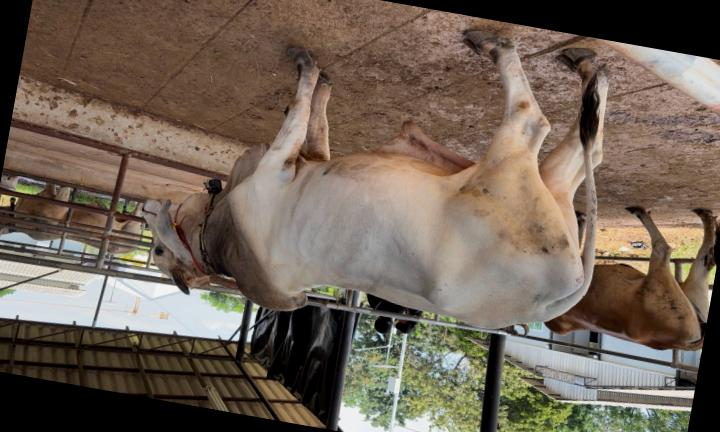Brahman: (145, 31, 608, 328)
